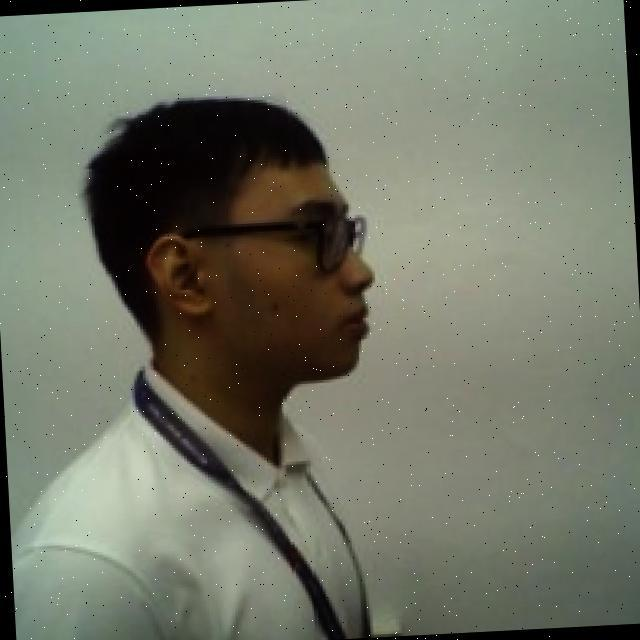no_gloves: (68, 84, 355, 247)
no_hairnet: (138, 221, 390, 406)
